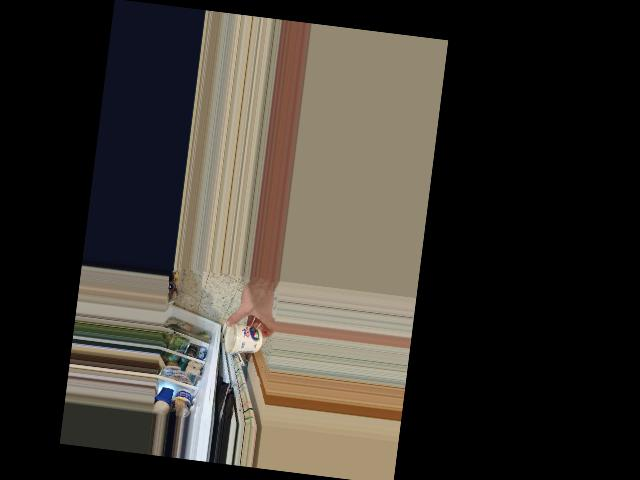cotage: (223, 320, 265, 357)
